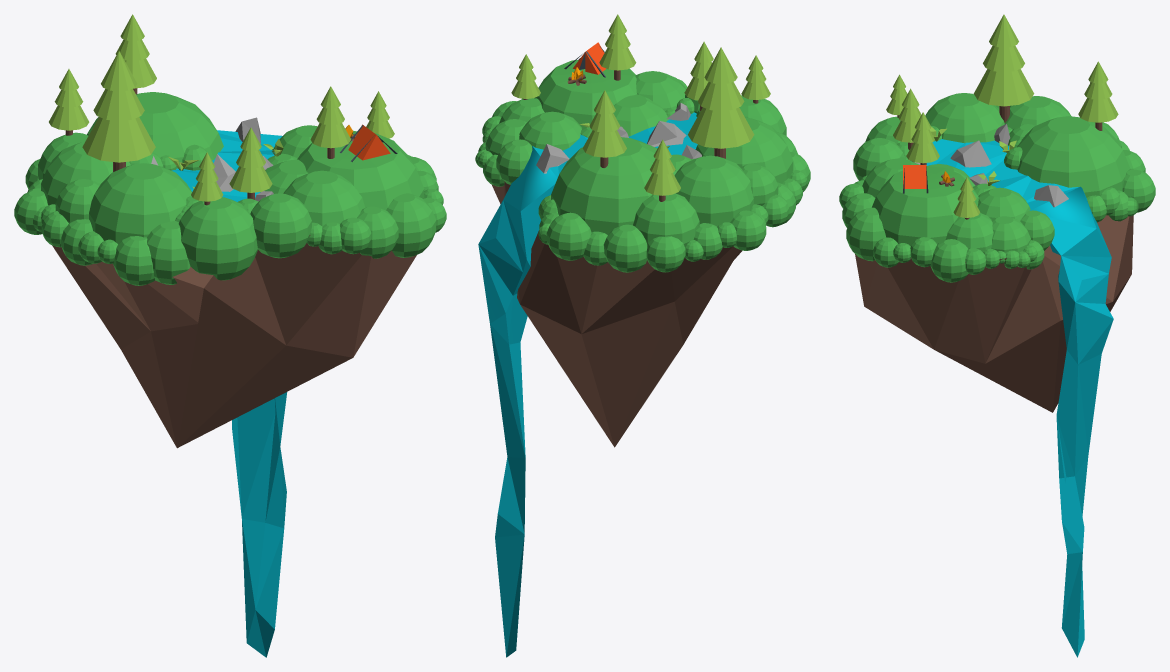
The model's file is secretcamp.glb.
The picture shows the model from 3 angles, left to right: view 1: azimuth 30°, elevation 25°; view 2: azimuth 150°, elevation 25°; view 3: azimuth 270°, elevation 25°; orthographic projection. The views are drawn at different scales.
Visible parts, largest first — view 1: model.064; view 2: model.064; view 3: model.064.
Boxes of the visible parts, box(x1,y1,x2,y2) form: model.064: box(14, 14, 446, 657); model.064: box(475, 14, 810, 657); model.064: box(839, 14, 1155, 657).
Bounding box in the file's own units: 1.01 × 1.86 × 0.9386.
